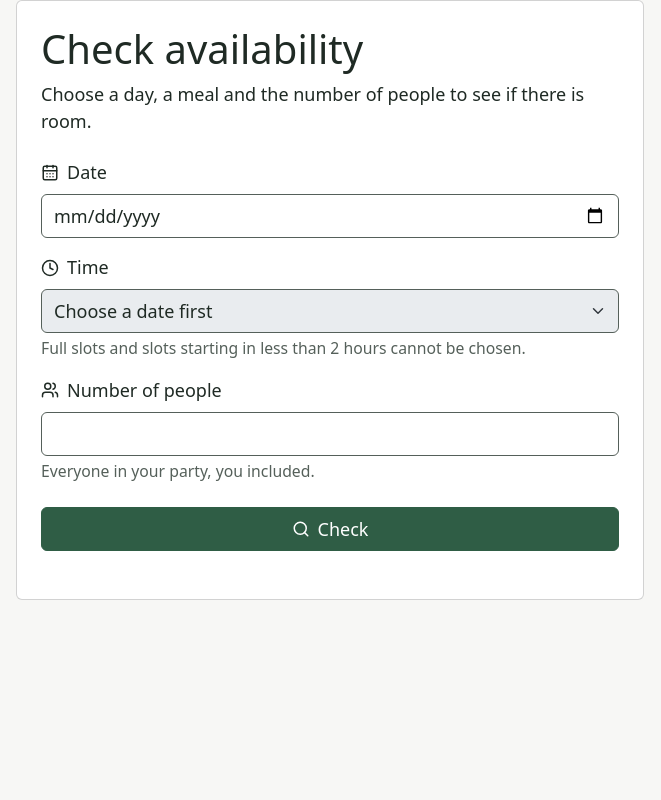
Test: CheckAvailabilityPage › C4: checks the chosen slot and party size, with numbers
Type "2026-11-03" into the date field labelled "Date".
click(330, 216); type("2026-11-03")  # box [41,194,619,238]
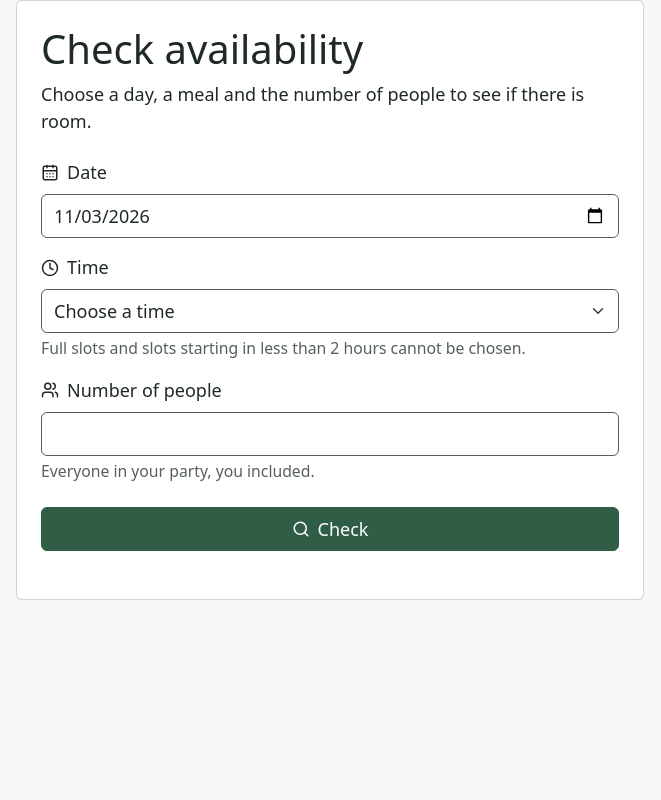
Result: the dropdown labelled "Time" is enabled
Select "Dinner, 19:00 – 20:30" in the dropdown labelled "Time" at [330, 311], box [41,289,619,333]
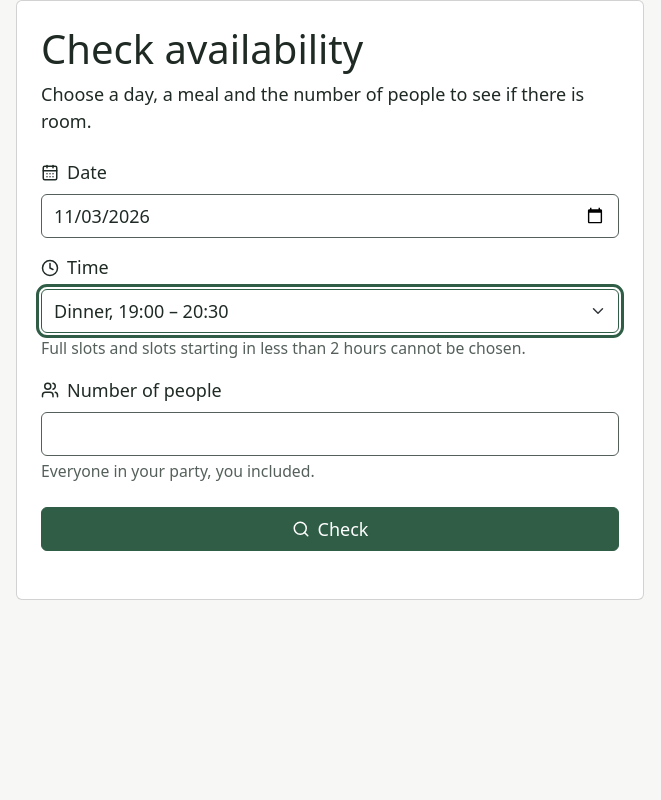
Type "6" into the number field labelled "Number of people".
click(330, 434); type("6")  # box [41,412,619,456]
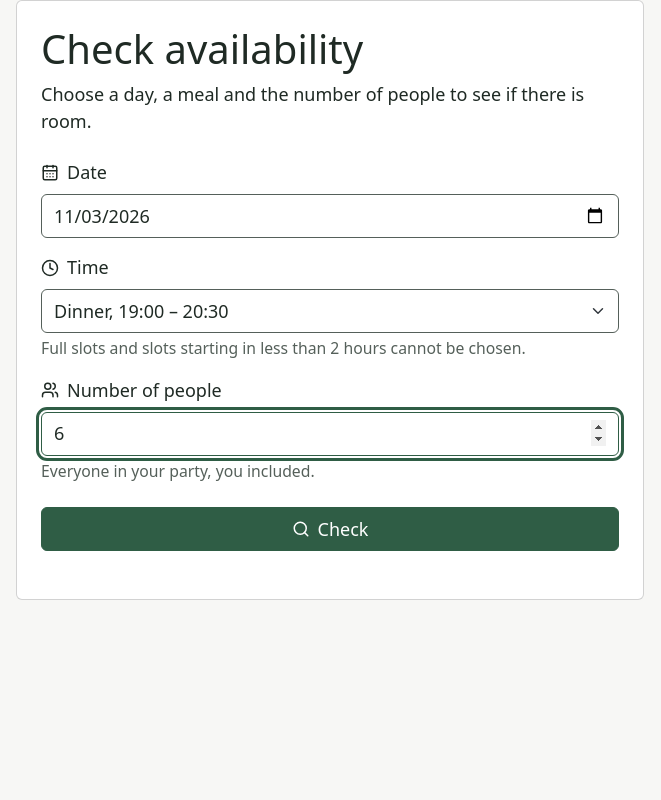
Click the button "Check".
click(330, 529)  # box [41,507,619,551]
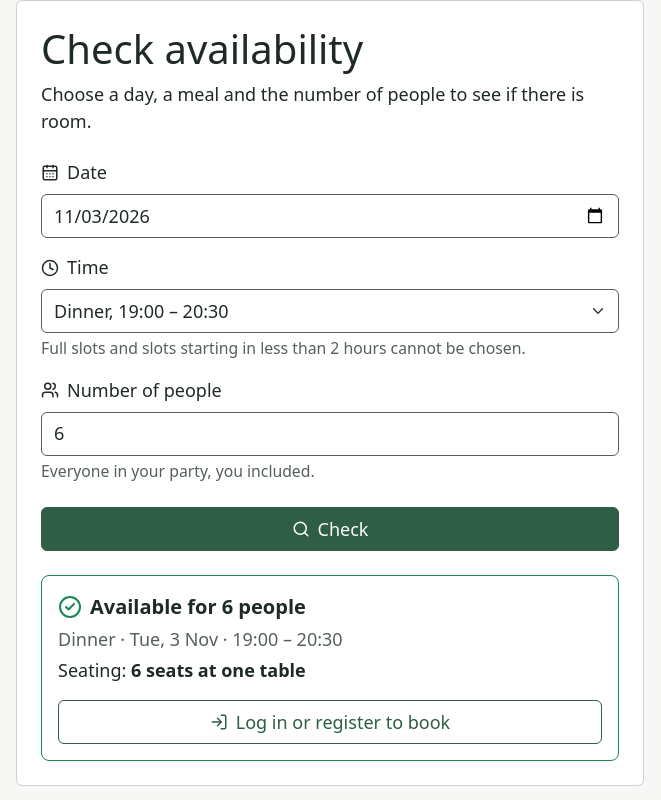
Result: the message is shown at [58,593,343,682]
